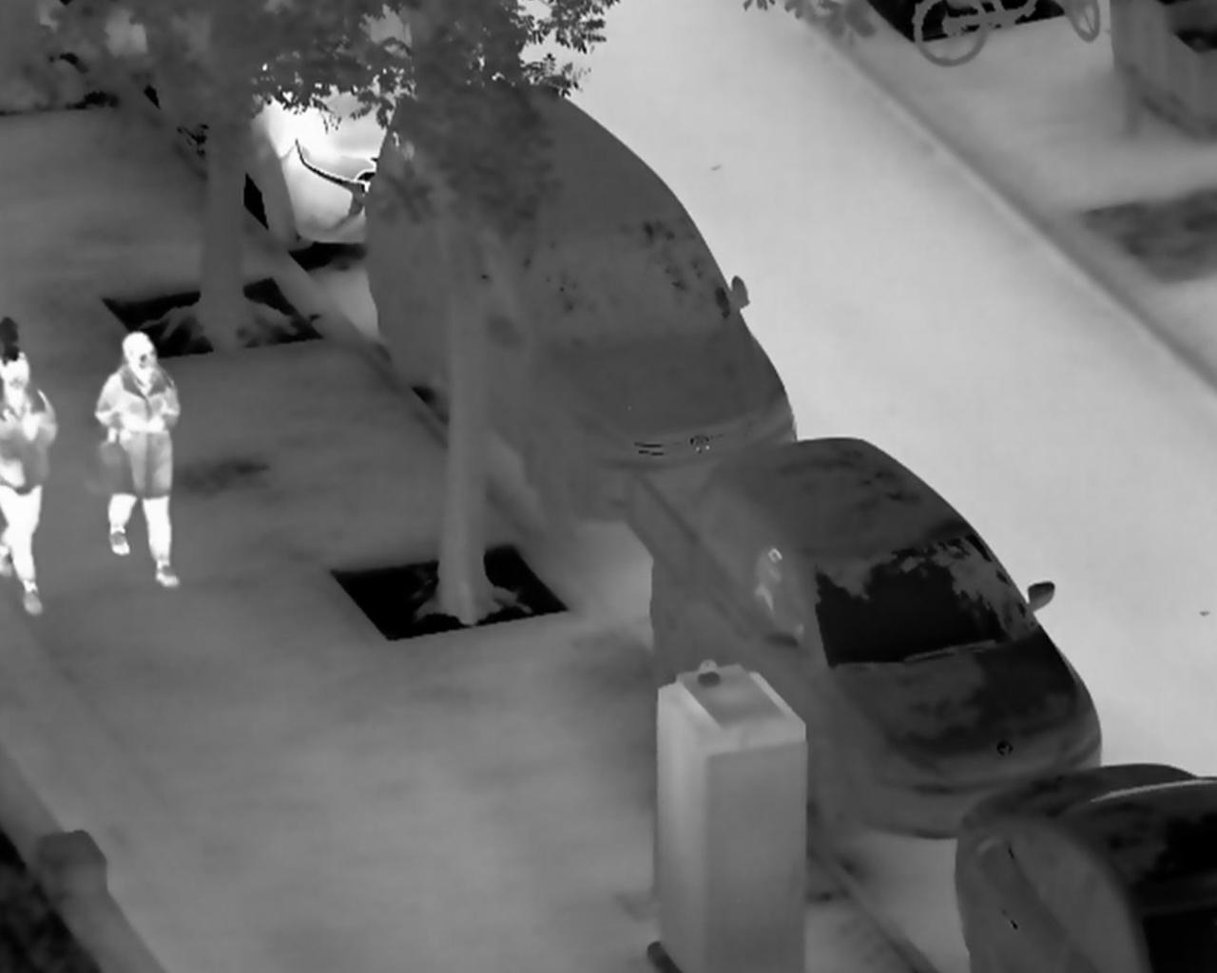person: (93, 331, 183, 590)
